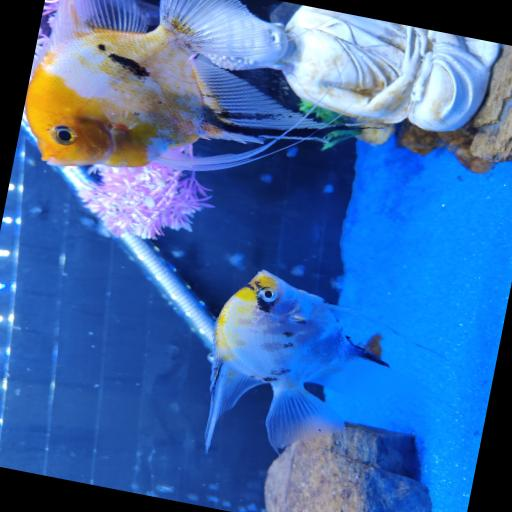Fish: (25, 0, 327, 169), (206, 270, 388, 450)
